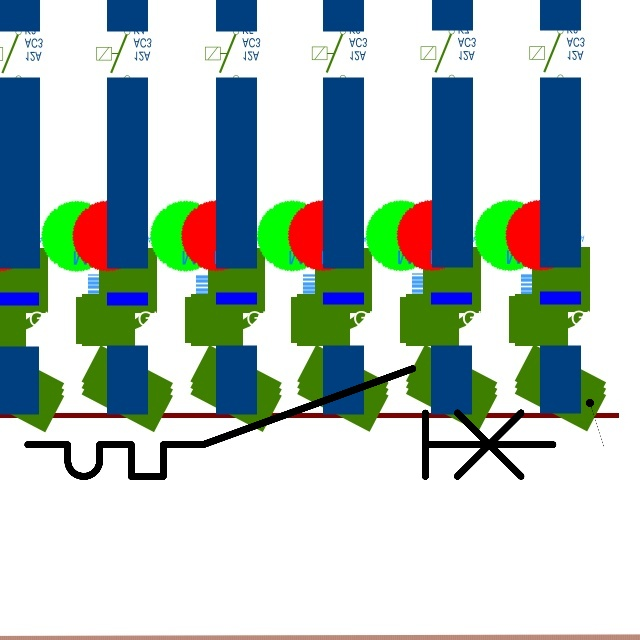interruptor_termomagnetico: (14, 355, 567, 490)
